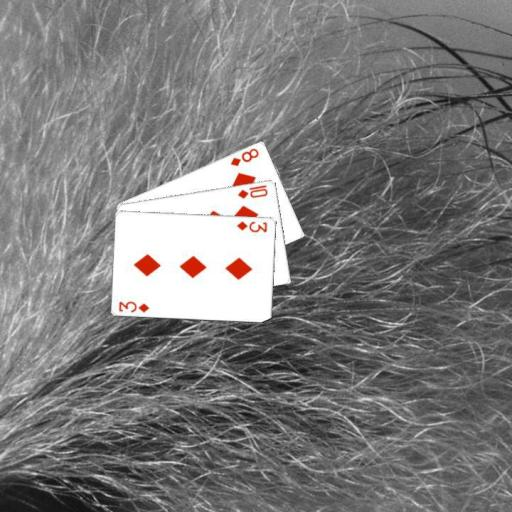10D: (235, 181, 270, 200)
3D: (234, 218, 269, 234), (116, 298, 151, 314)
8D: (228, 145, 260, 167)
